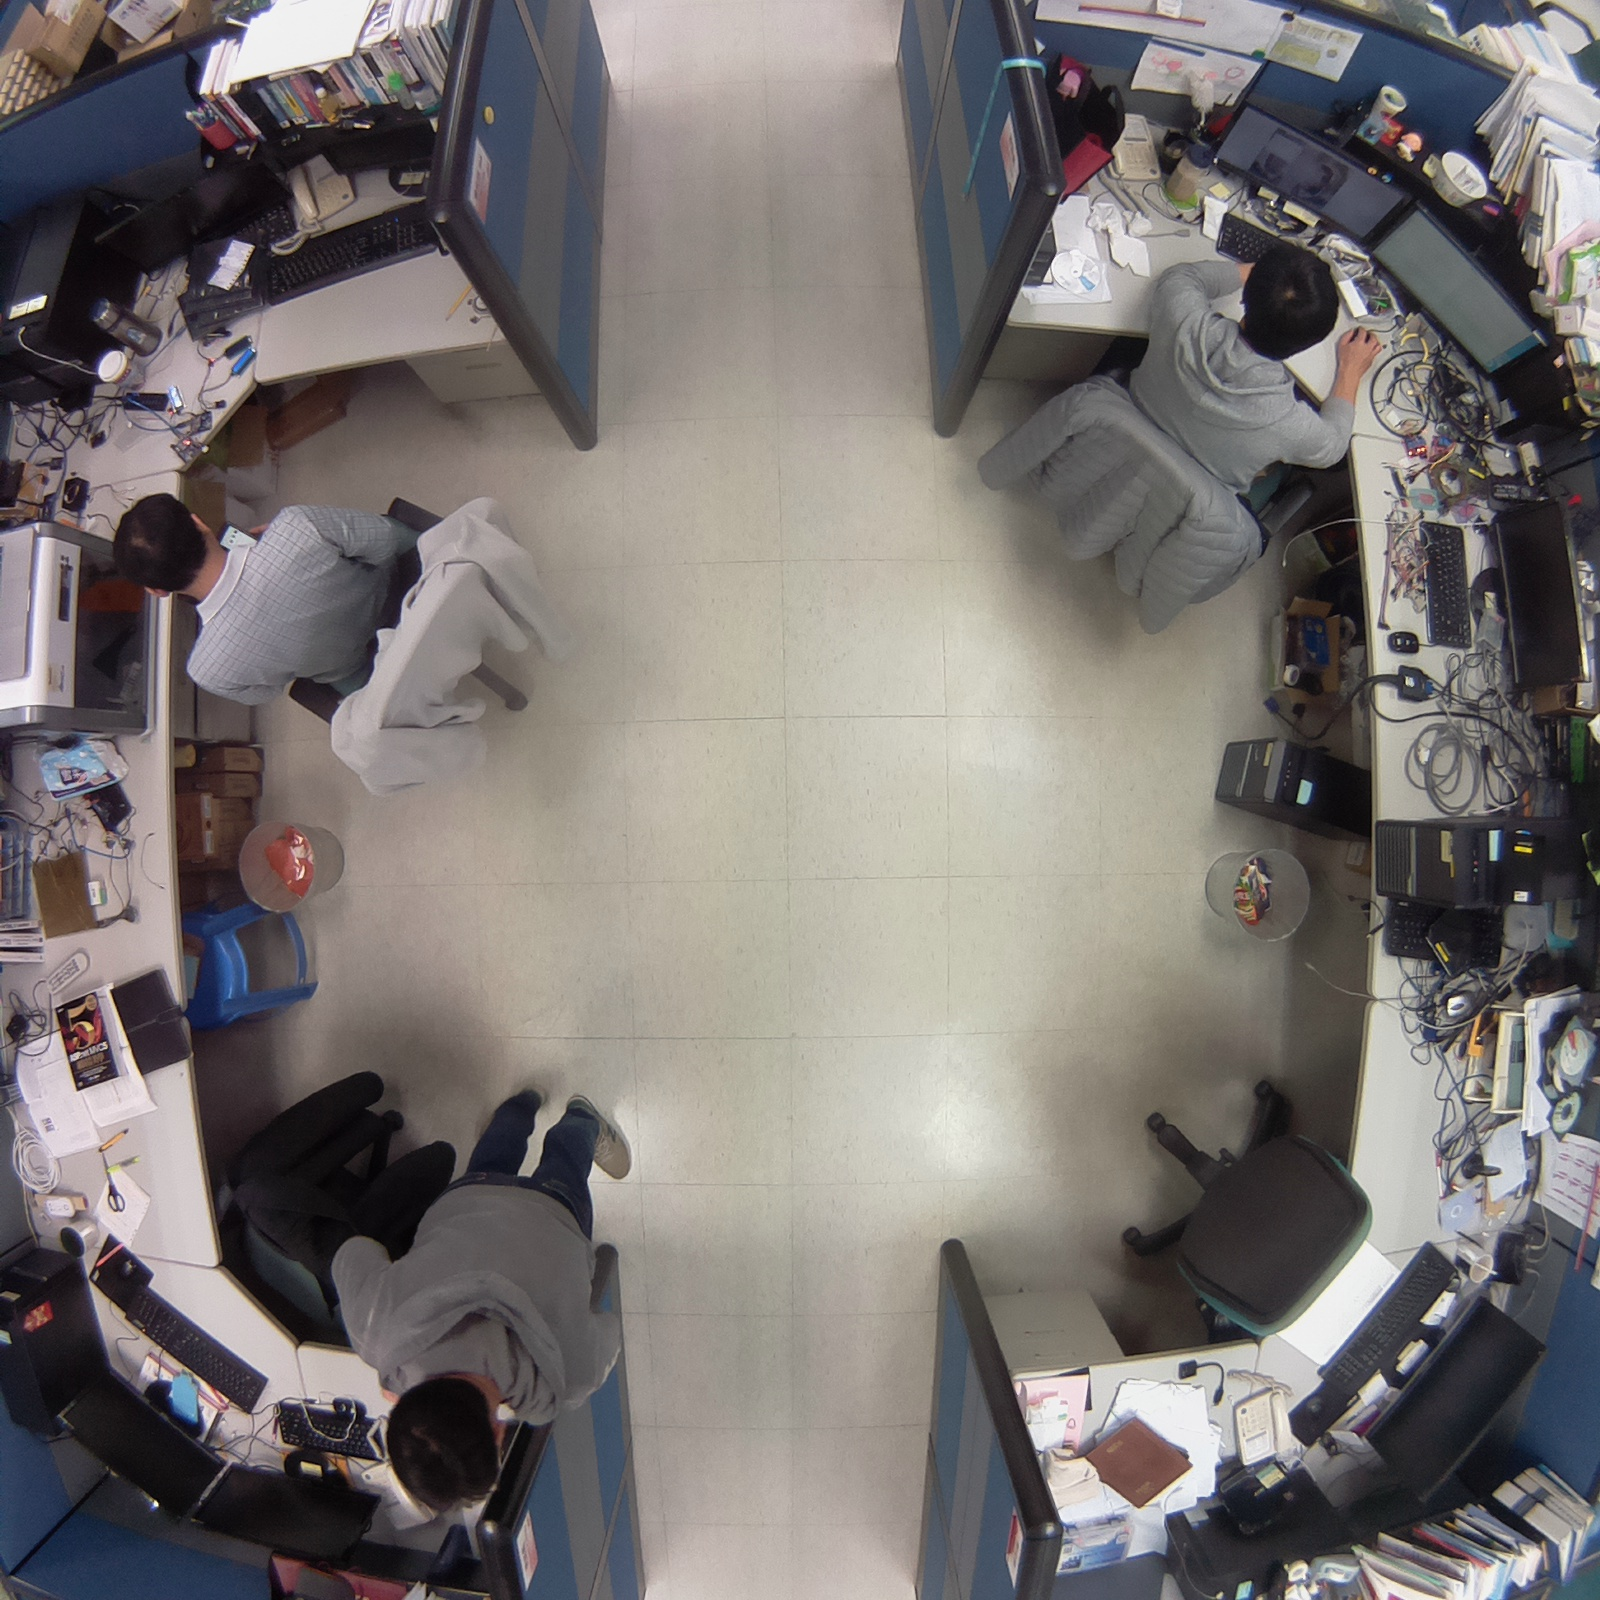chair: (1092, 1042, 1396, 1366)
sitting: (955, 220, 1402, 658), (94, 478, 589, 818)
standing: (302, 1062, 670, 1538)
